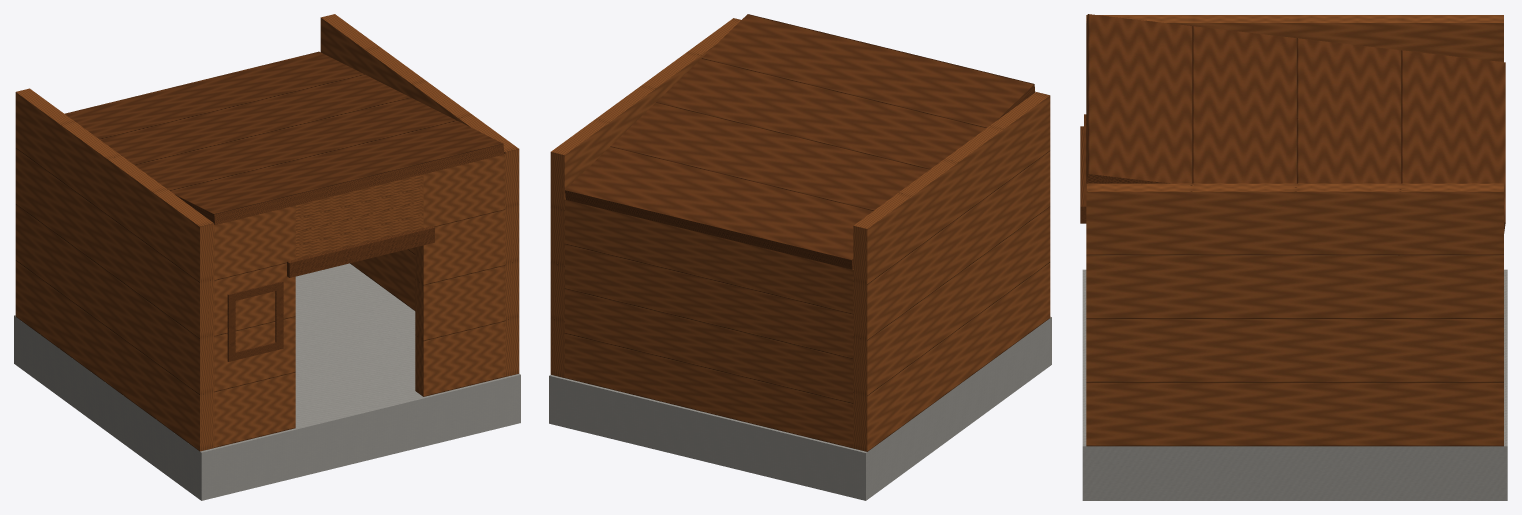
The model's file is farm-and-working-animals-hd-loose-box-front-73bddce7__29210.glb.
The picture shows the model from 3 angles, left to right: view 1: azimuth 30°, elevation 25°; view 2: azimuth 150°, elevation 25°; view 3: azimuth 270°, elevation 25°; orthographic projection. The views are drawn at different scales.
Parts seen in each view (by area): view 1: loose-box-front; view 2: loose-box-front; view 3: loose-box-front.
Boxes of the visible parts, x1,y1,x2,y2 form: loose-box-front: (14, 14, 520, 500); loose-box-front: (549, 14, 1051, 500); loose-box-front: (1080, 14, 1507, 500).
Size of the model in its own units: 3.6 by 3.03 by 3.68.
Materials: 4 (4 with a texture image).
